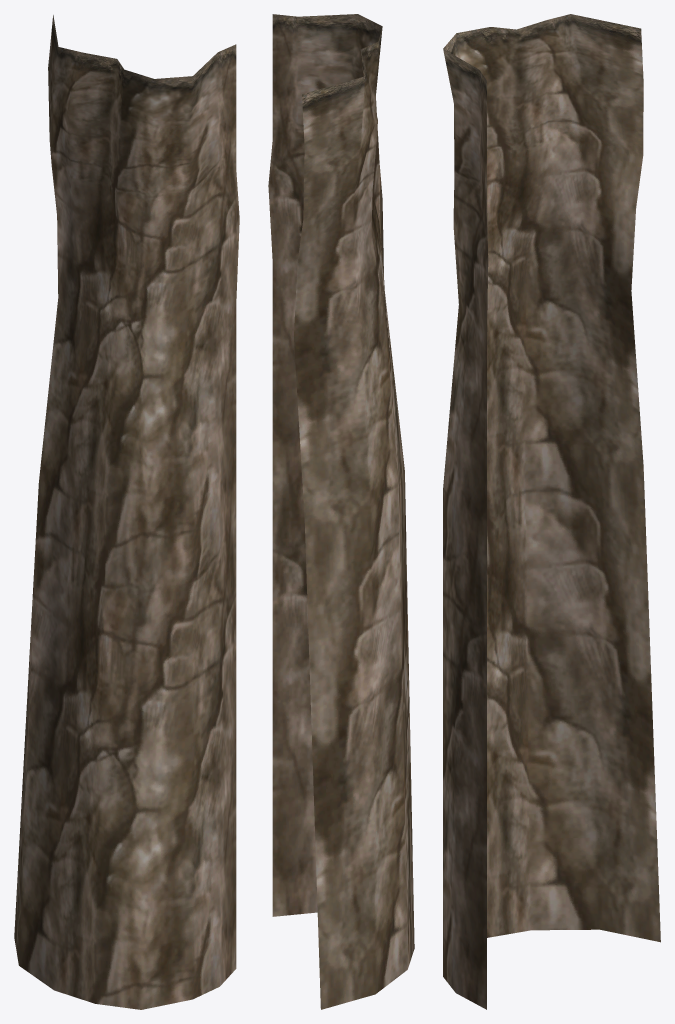
The model's file is OVERHILL_A_01_OBJECT30.fbx.
3 renders of one model, left to right at view 1: azimuth 30°, elevation 25°; view 2: azimuth 150°, elevation 25°; view 3: azimuth 270°, elevation 25°, orthographic. The views are drawn at different scales.
Visible parts, largest first — view 1: OVERHILL_A_01_OBJECT30; view 2: OVERHILL_A_01_OBJECT30; view 3: OVERHILL_A_01_OBJECT30.
Boxes of the visible parts, box(x1,y1,x2,y2) form: OVERHILL_A_01_OBJECT30: box(14, 15, 239, 1009); OVERHILL_A_01_OBJECT30: box(268, 14, 414, 1009); OVERHILL_A_01_OBJECT30: box(443, 14, 660, 1009).
Size of the model in its own units: 32718 by 174896 by 37160.
2 materials, 2 textured.
